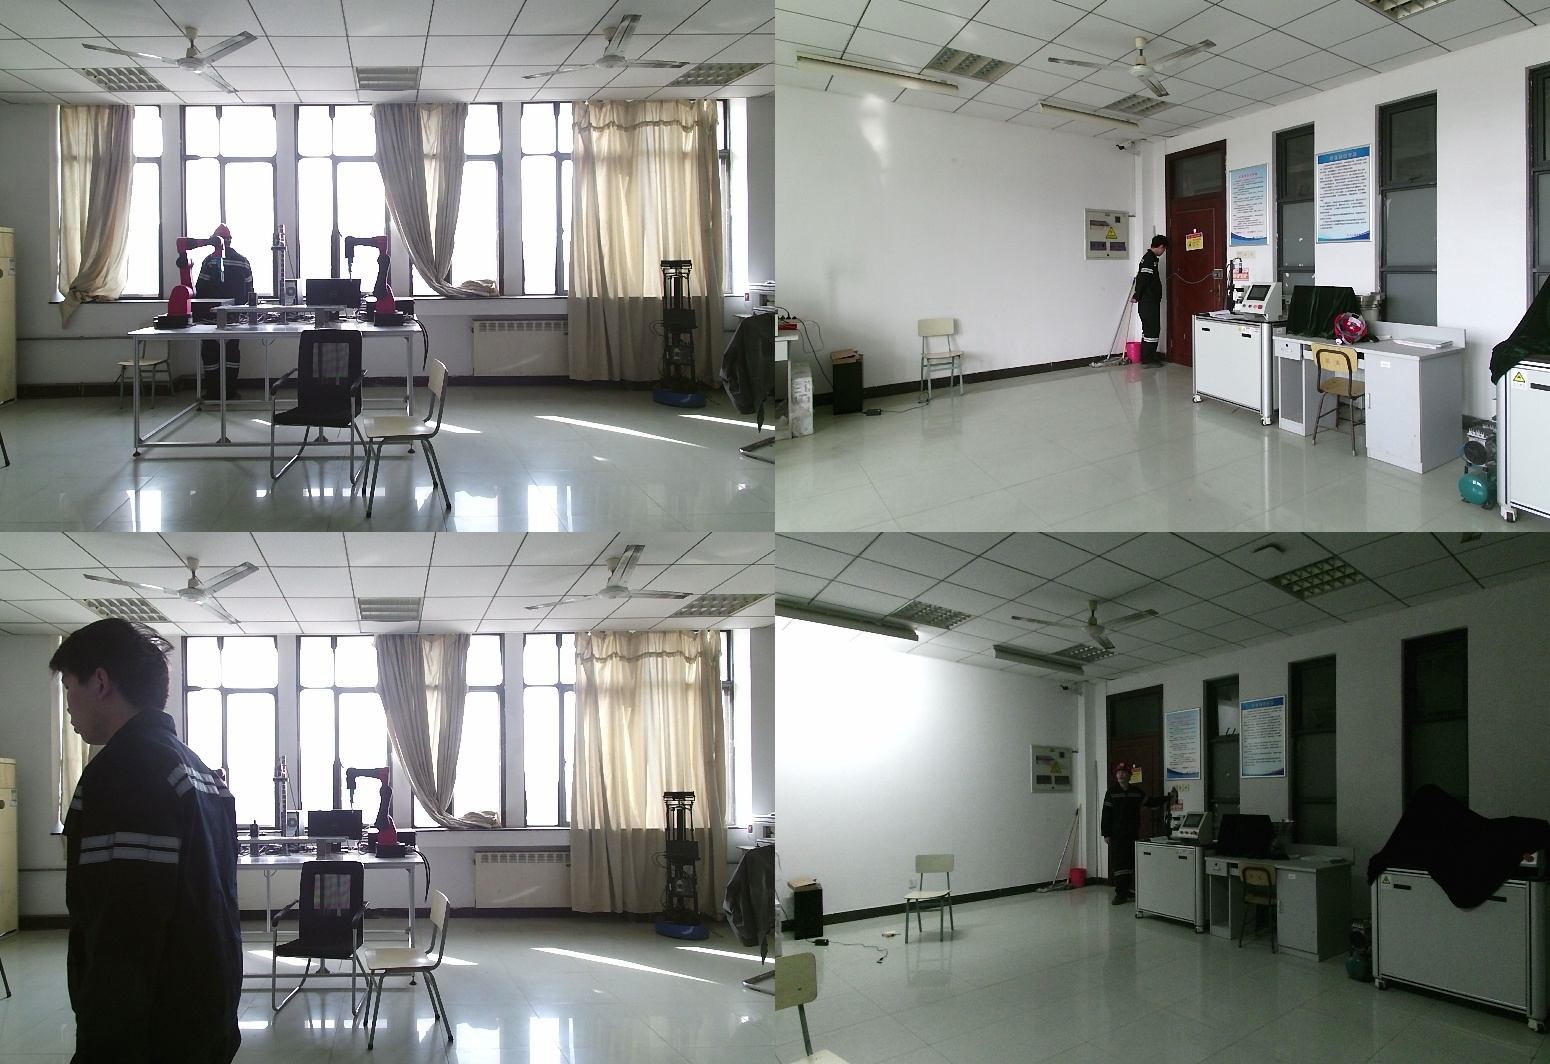person: (44, 617, 254, 1064), (192, 225, 253, 413), (1099, 759, 1151, 904), (1132, 236, 1173, 374)
